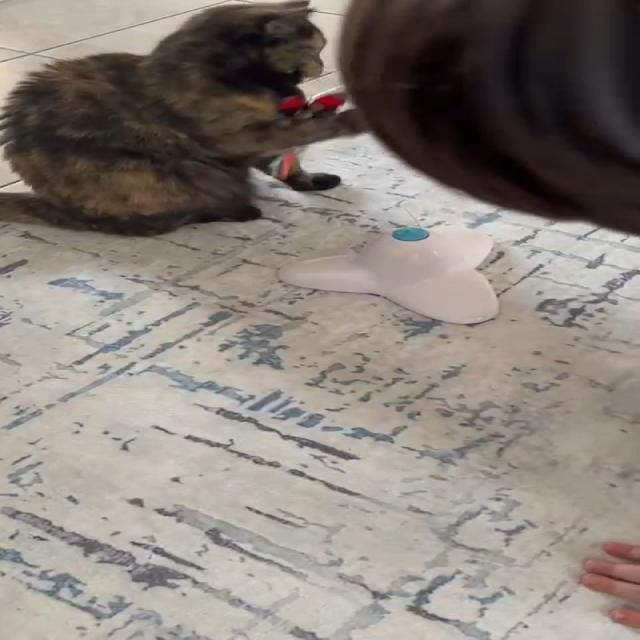authorized: (0, 1, 369, 237)
